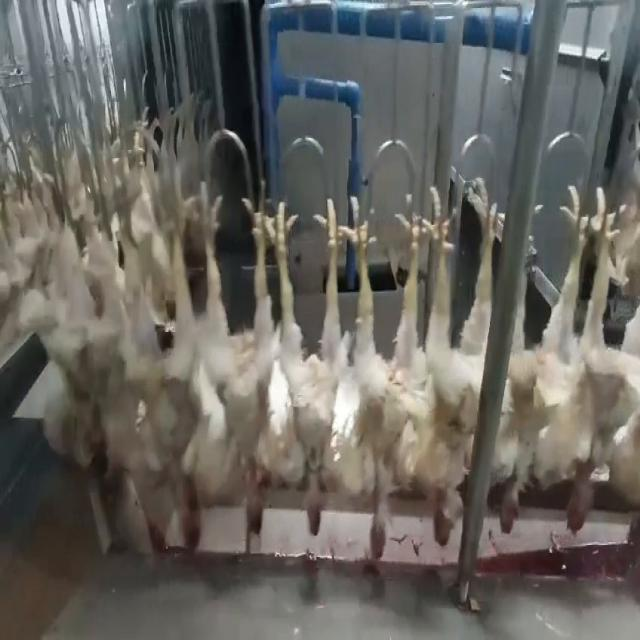chicken: (493, 189, 596, 540), (175, 177, 268, 547), (407, 183, 498, 553), (102, 183, 188, 544), (271, 198, 355, 545), (566, 185, 640, 544), (350, 186, 419, 562)
